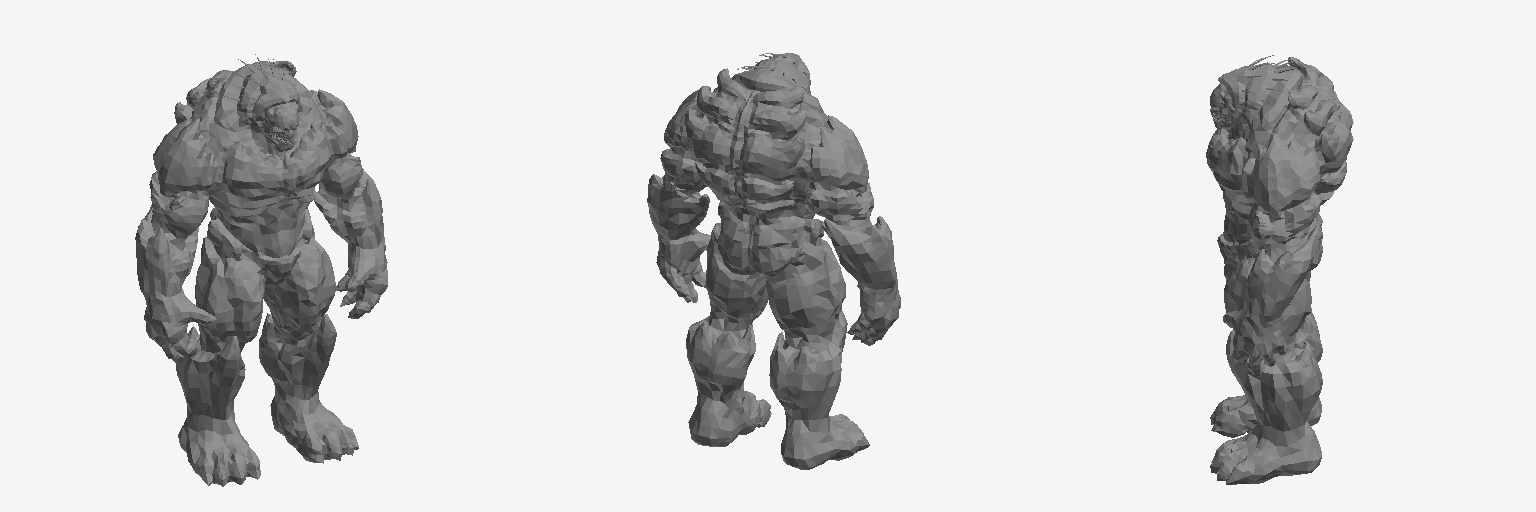
The model's file is Berserker.obj.
3 renders of one model, left to right at view 1: azimuth 30°, elevation 25°; view 2: azimuth 150°, elevation 25°; view 3: azimuth 270°, elevation 25°, orthographic.
Visible parts, largest first — view 1: LOC_Berserker; view 2: LOC_Berserker; view 3: LOC_Berserker.
Part boxes in pixels (x1,y1,x2,y2): LOC_Berserker: (135,54,387,486); LOC_Berserker: (647,53,900,469); LOC_Berserker: (1206,55,1353,484).
Bounding box in the file's own units: 146 × 228 × 76.93.